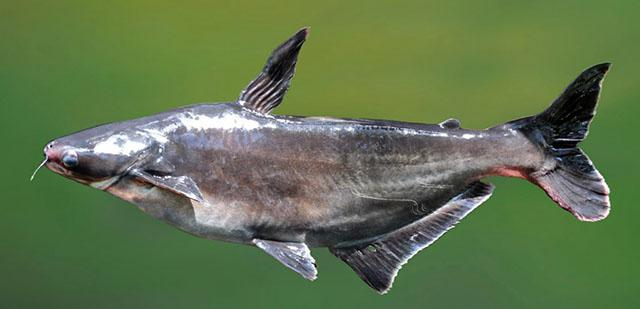Mulut: (42, 148, 90, 188)
Sirip Anal: (331, 174, 497, 300)
Sirip Dada: (146, 166, 210, 218)
Sirip Ekor: (517, 60, 627, 226)
Sirip Perut: (250, 226, 322, 294)
Sirip Punggung: (238, 26, 322, 126)
